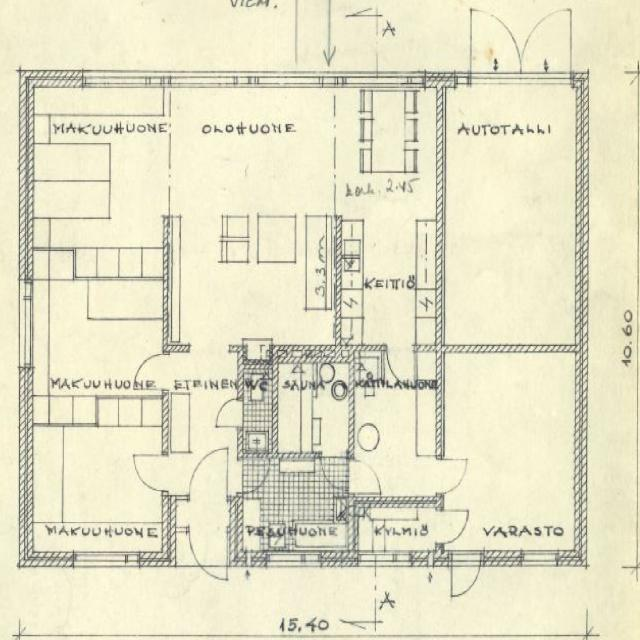door: (470, 7, 521, 87), (521, 7, 571, 87), (189, 449, 227, 501), (189, 528, 226, 580), (452, 553, 481, 604), (386, 345, 415, 388), (133, 355, 167, 391), (134, 456, 167, 492), (348, 461, 381, 495), (437, 512, 470, 544), (437, 461, 470, 493), (238, 461, 268, 493), (321, 454, 346, 492), (215, 400, 243, 427)
